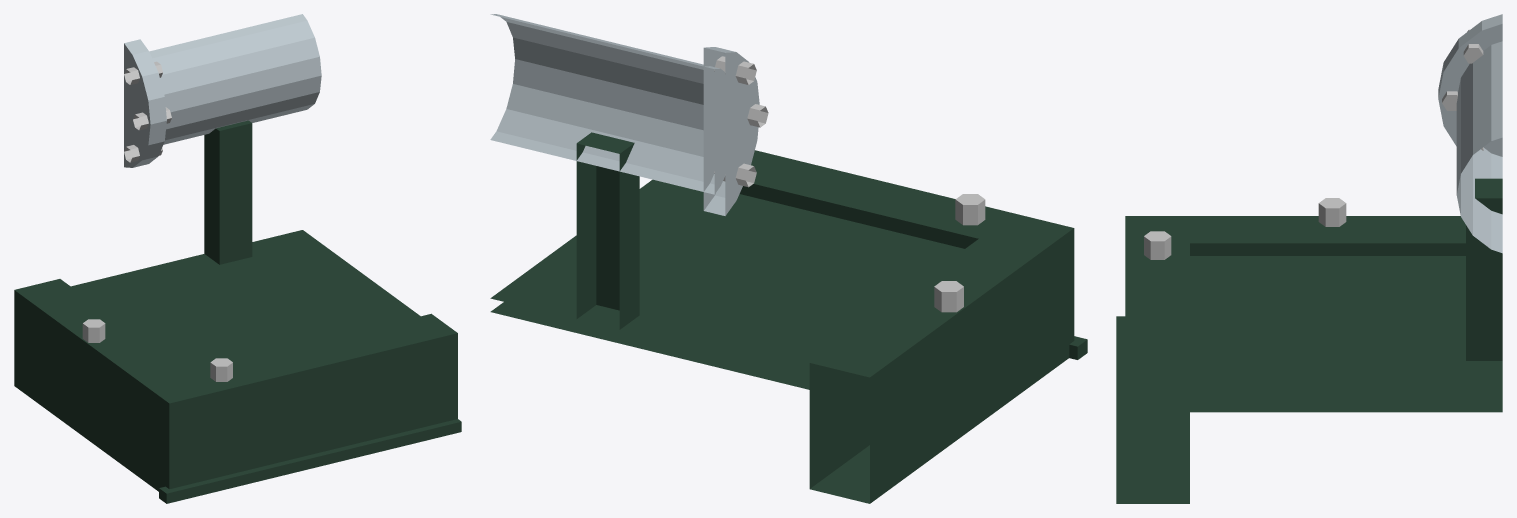
The model's file is cell_20.obj.
The picture shows the model from 3 angles, left to right: view 1: azimuth 30°, elevation 25°; view 2: azimuth 150°, elevation 25°; view 3: azimuth 270°, elevation 25°; orthographic projection. The views are drawn at different scales.
Size of the model in its own units: 0.9 by 0.9209 by 0.84.
